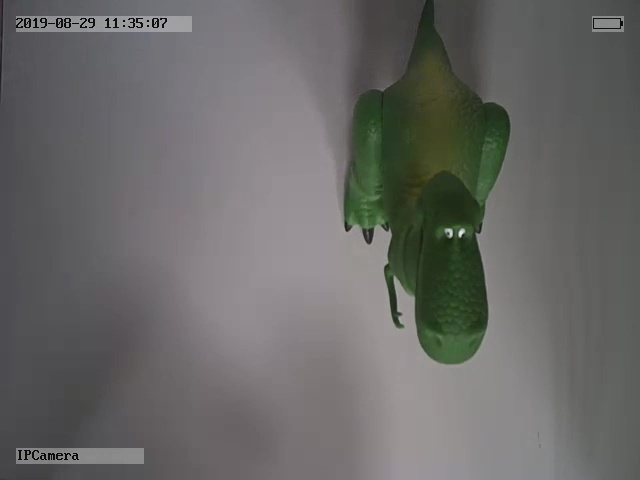rex: (339, 2, 514, 367)
